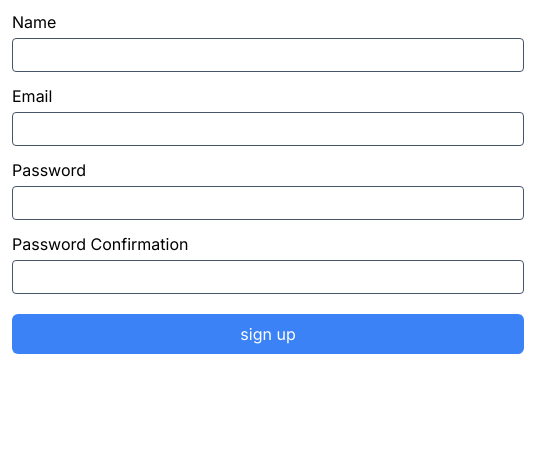
Test case: <SignUpForm /> component tests › should display required error when form submitted with no values
Click the button at (268, 334), box [12,314,524,354]
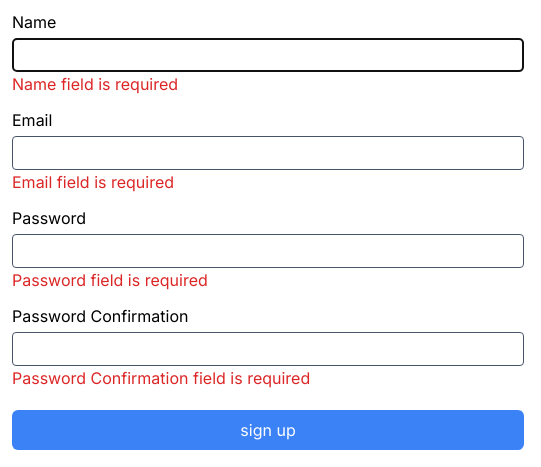
expect the text "Name field is required" is shown: met, box [12,74,178,94]
expect the text "Email field is required" is shown: met, box [12,172,174,192]
expect the text "Password field is required" is shown: met, box [12,270,208,290]
